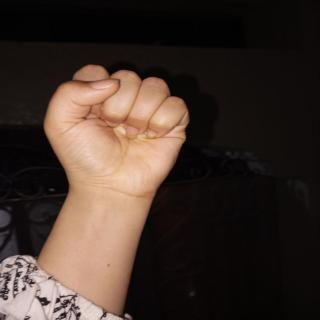SAD: (42, 60, 196, 209)
